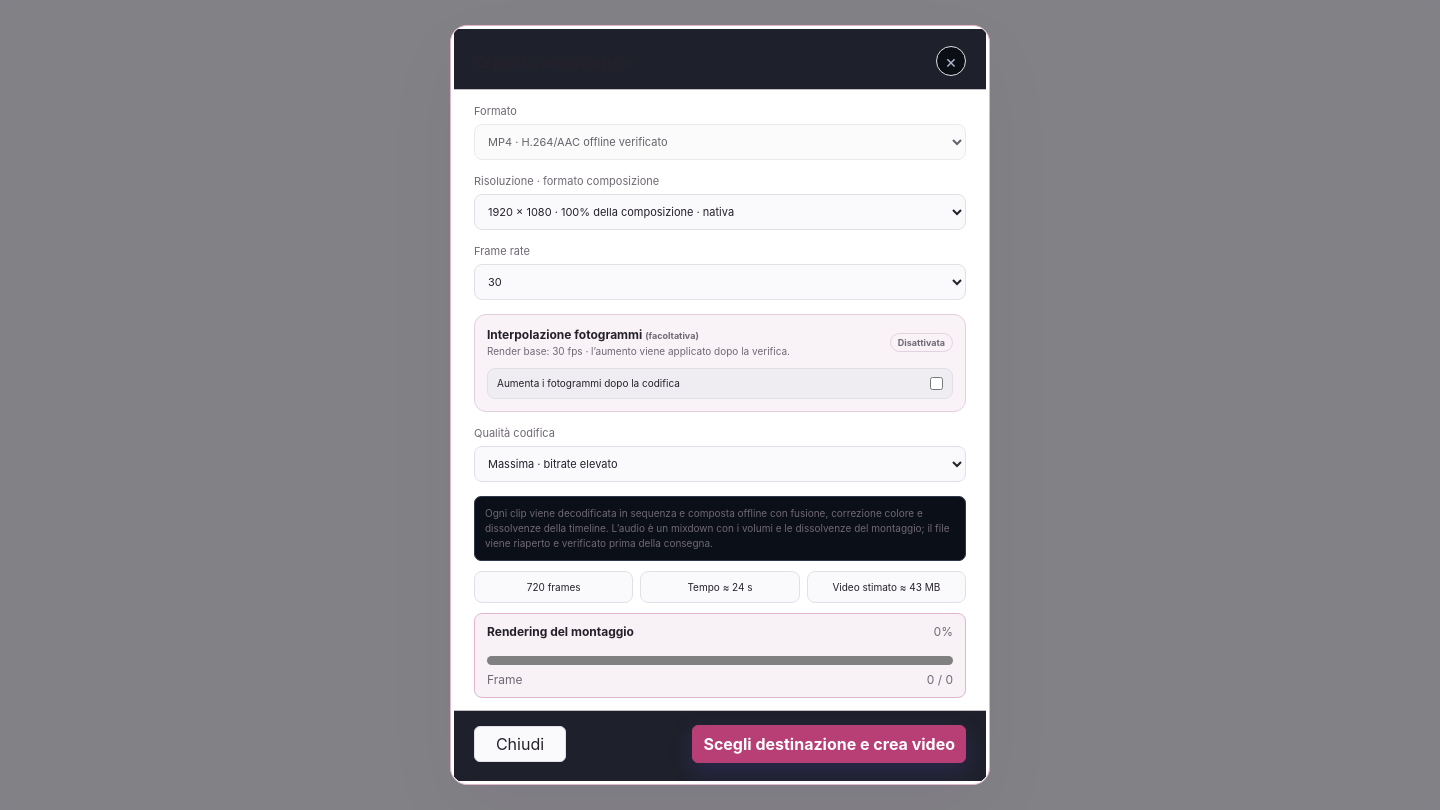
Test: ExportDialog › montaggio Video Editor › segnala il metodo indisponibile sul servizio locale
Step 1. Click the checkbox named "Attiva interpolazione dei fotogrammi" → coordinates (936, 383), box [930,376,943,390]
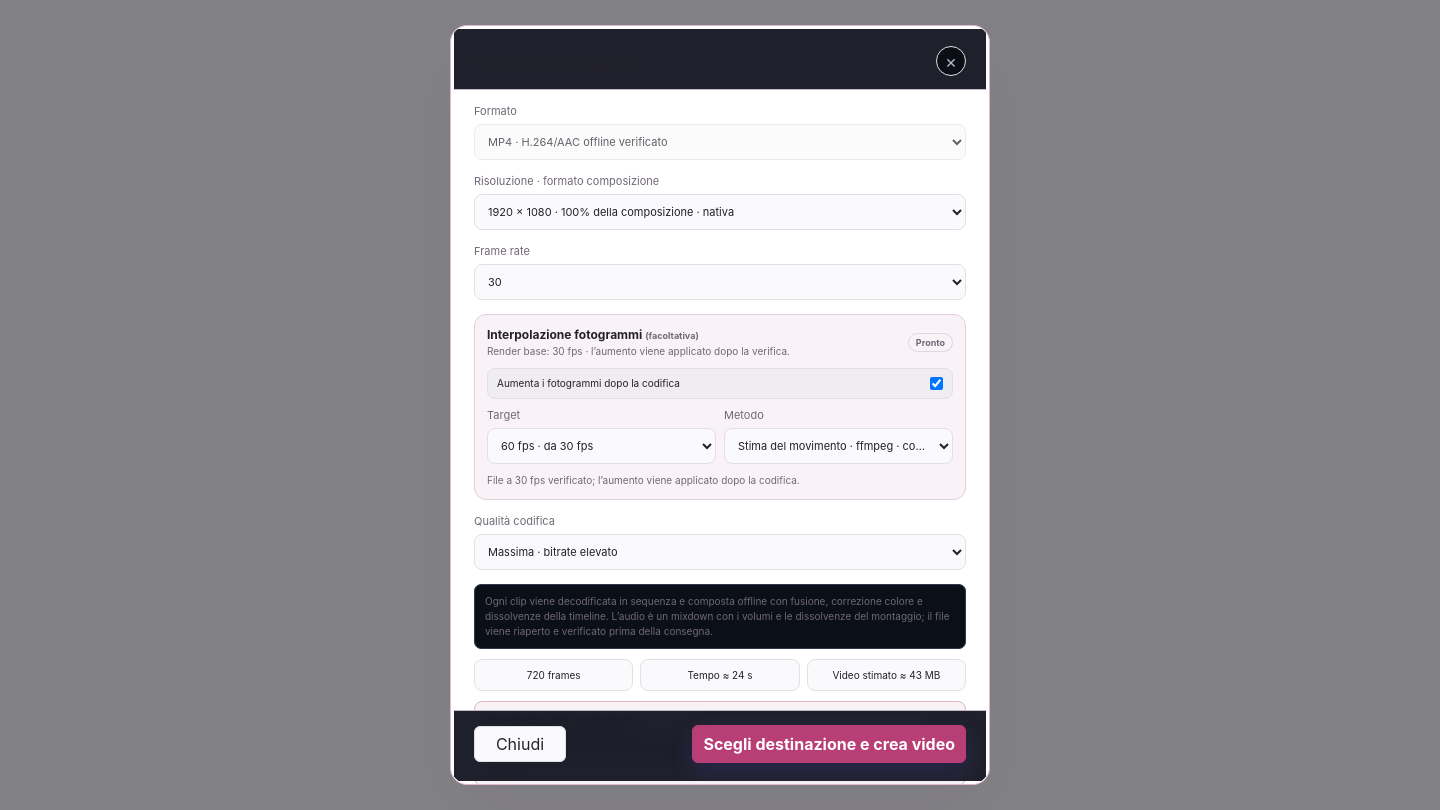
Expected: the text "Pronto" is shown, [908,333,953,352]
Step 2. Select "RIFE su GPU · qualità massima" in the dropdown named "Metodo di interpolazione" → coordinates (838, 446), box [724,428,953,464]
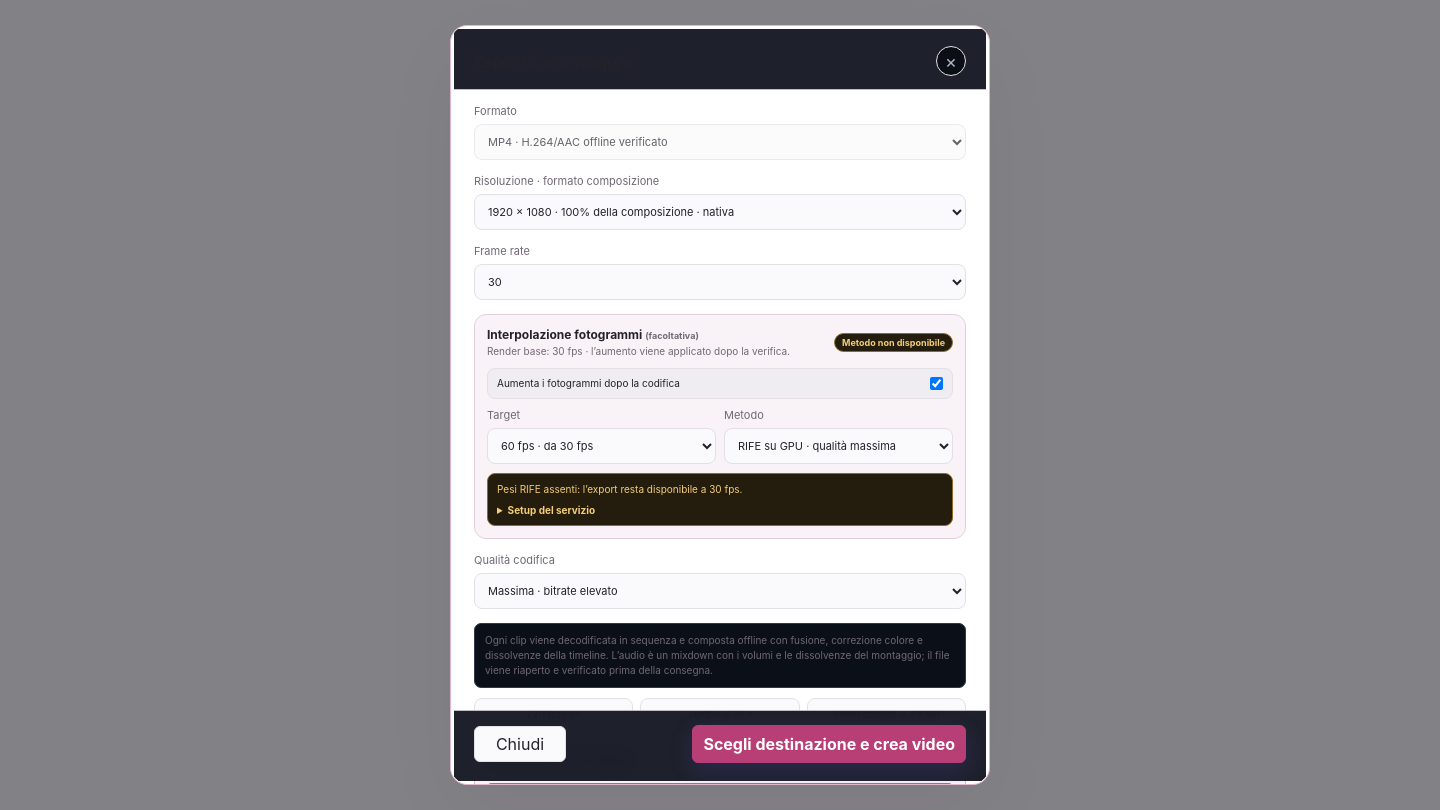
Expected: the text "Metodo non disponibile" is shown, [834,333,953,352]
Expected: the text "Pesi RIFE assenti: l’export resta disponibile a 30 fps." is shown, [497,482,742,494]
